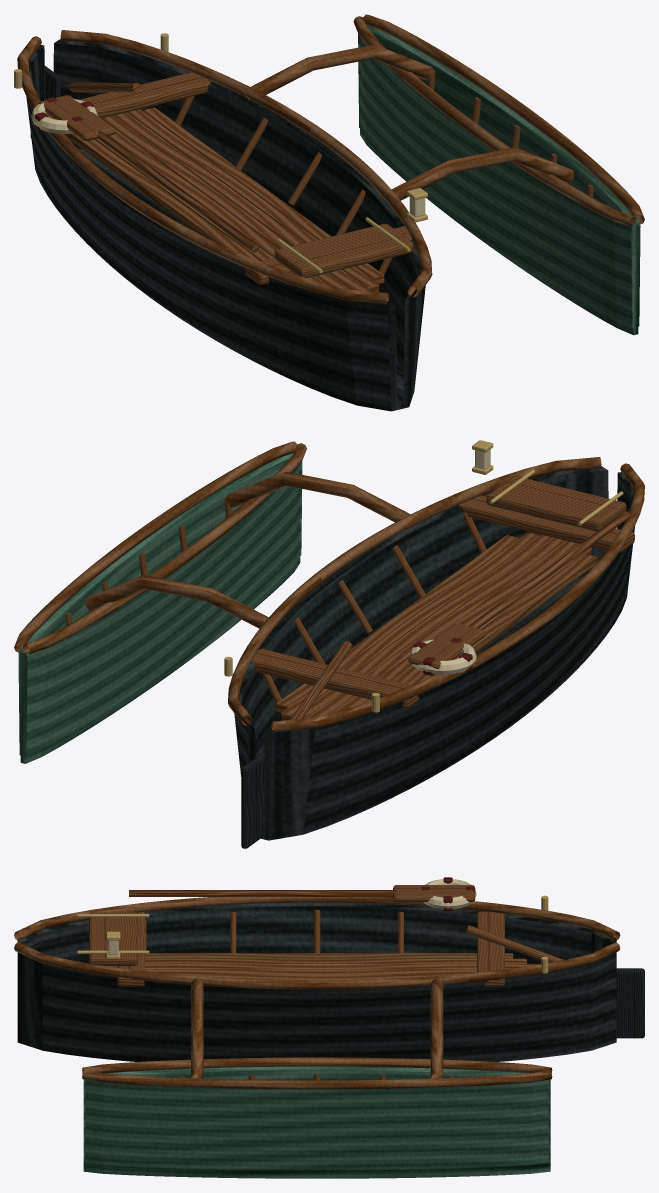
The model's file is SM_Outrigger.glb.
3 views of the same model, one above another, from view 1: azimuth 30°, elevation 25°; view 2: azimuth 150°, elevation 25°; view 3: azimuth 270°, elevation 25° (orthographic). The views are drawn at different scales.
Parts seen in each view (by area): view 1: SM_Outrigger; view 2: SM_Outrigger; view 3: SM_Outrigger.
Part boxes in pixels (left/top/right/bottom): SM_Outrigger: left=14, top=14, right=644, bottom=411; SM_Outrigger: left=14, top=440, right=644, bottom=848; SM_Outrigger: left=14, top=877, right=644, bottom=1178.
Size of the model in its own units: 2.97 by 1.21 by 4.53.
Materials: 6 (5 with a texture image).
